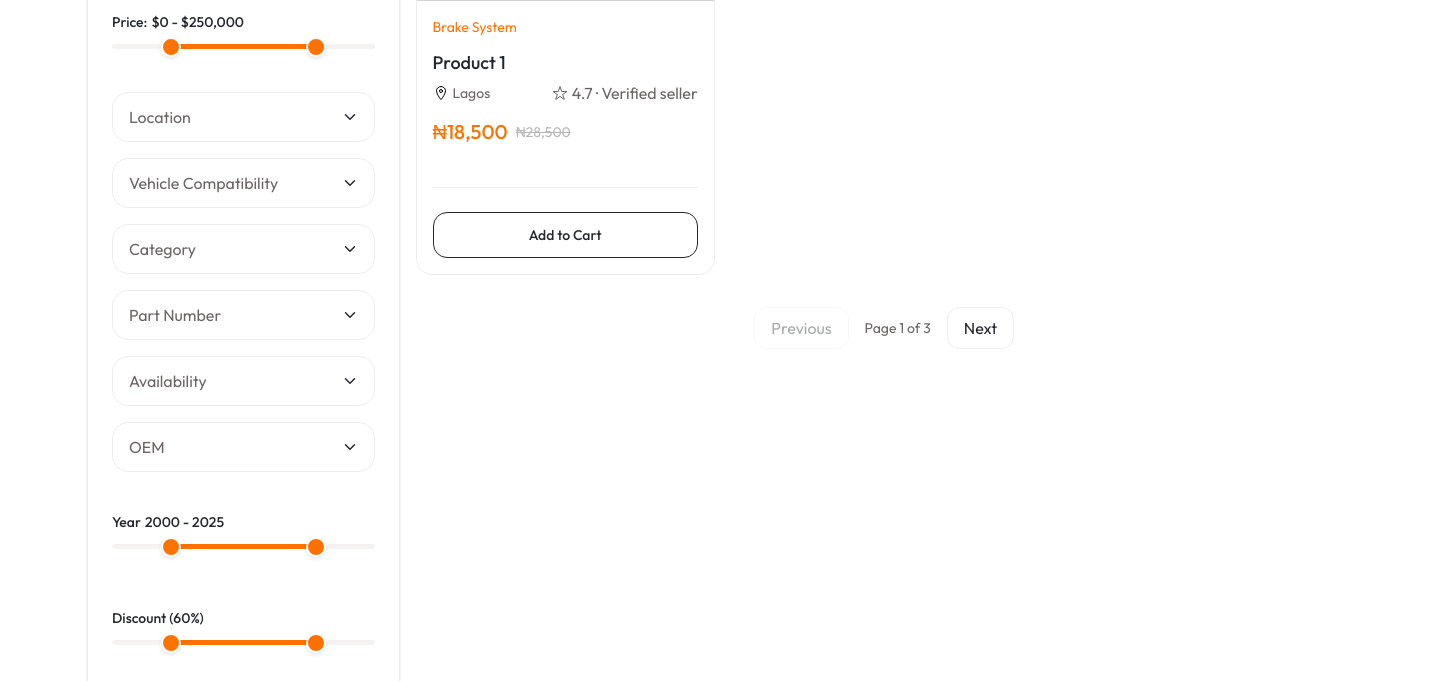
Scenario: requests the selected product page and resets to page one when the size changes
The image size is (1440, 681).
(page scrolled)
Expected: the heading "Product 1" is shown, [432, 51, 506, 74]
Expected: the text "Page 1 of 3" is shown, [864, 318, 931, 338]
Click the button "Next" at (981, 328), box [947, 307, 1014, 349]
(page scrolled)
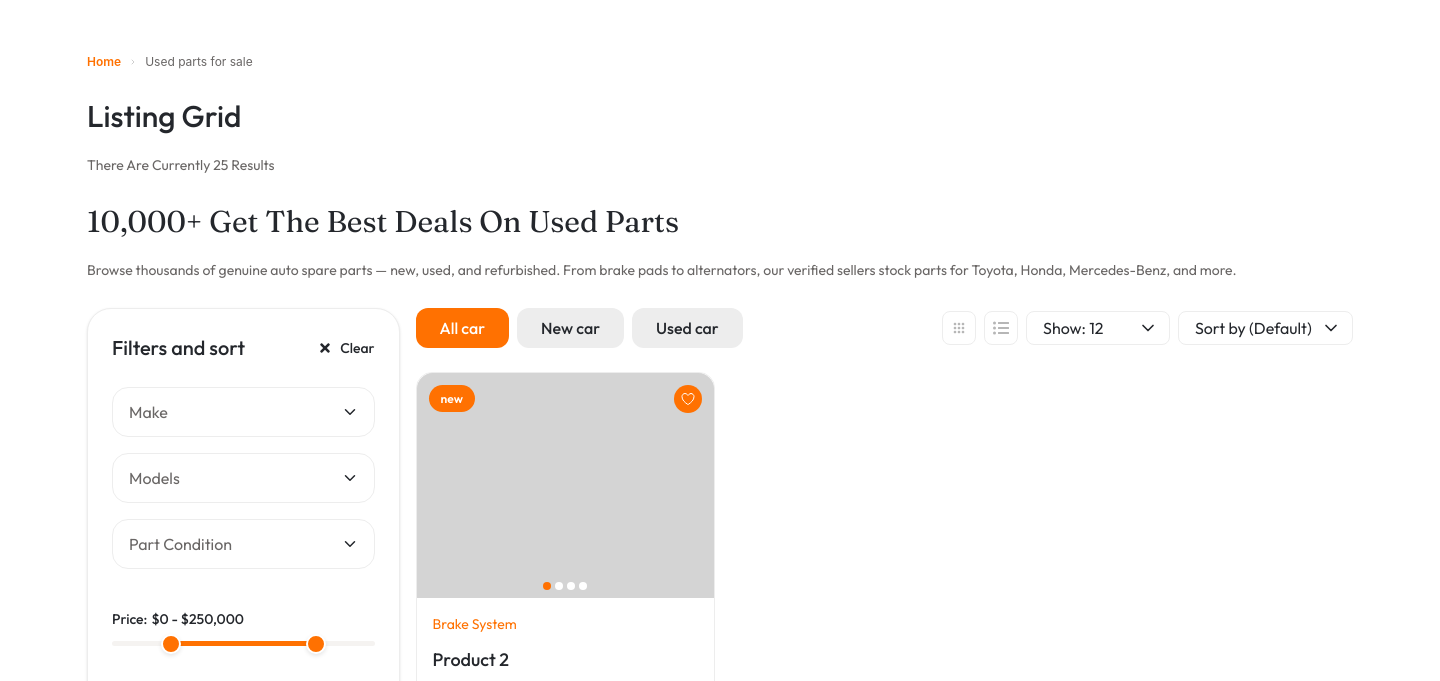
Result: the heading "Product 2" is shown at [432, 648, 509, 671]
Result: the link "Product 1" is gone
Select "Show: 24" in the dropdown named "Products per page" at (1098, 328), box [1026, 311, 1170, 345]
(page scrolled)
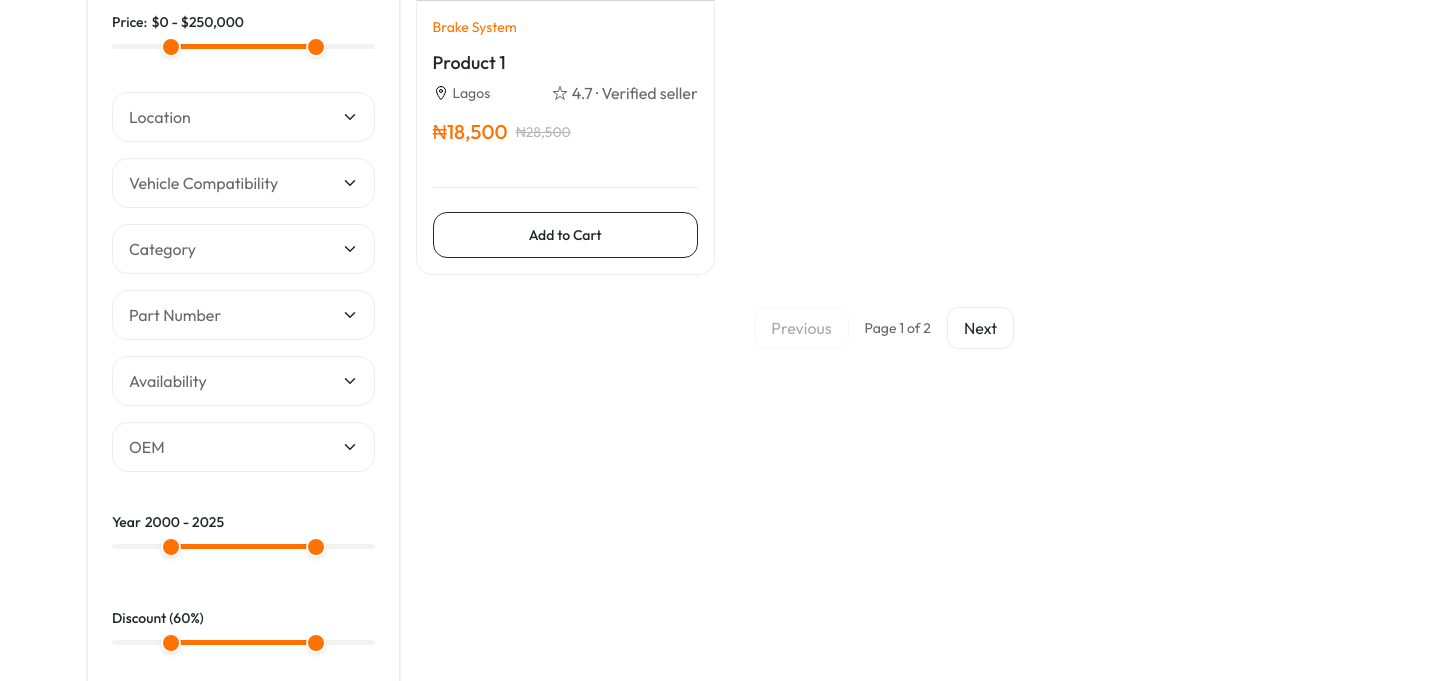
Result: the text "Page 1 of 2" is shown at [864, 318, 931, 338]
